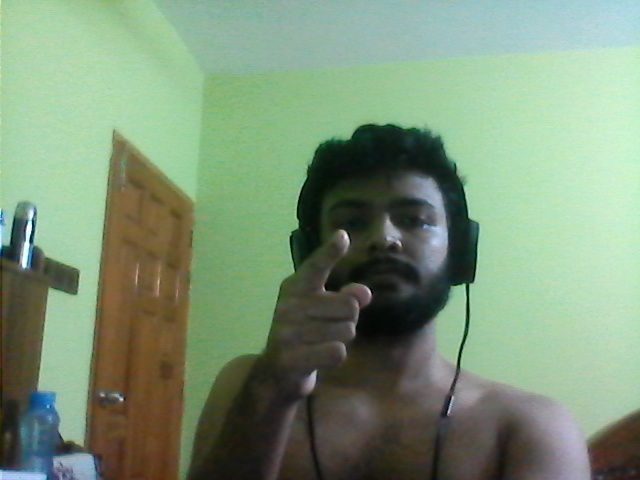You: (269, 221, 378, 407)
